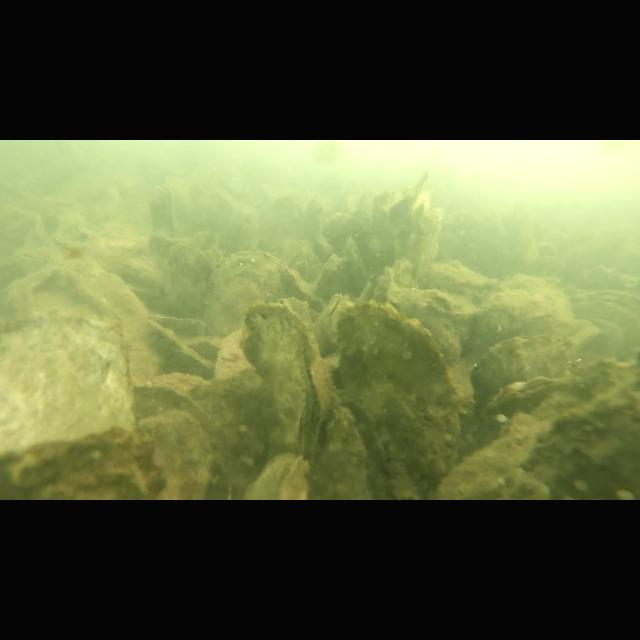Oyster-Closed: (436, 358, 640, 500), (0, 266, 136, 459), (334, 300, 458, 500), (238, 300, 328, 464), (1, 428, 168, 499), (137, 380, 230, 500), (468, 332, 572, 403), (212, 251, 282, 341), (161, 232, 221, 318), (149, 320, 215, 374), (429, 256, 495, 302), (249, 454, 311, 500), (408, 289, 480, 325), (279, 261, 323, 309), (338, 238, 368, 292), (314, 254, 344, 298), (292, 243, 314, 279), (359, 272, 376, 300)
Oyster-Open: (308, 404, 376, 500), (484, 374, 560, 420), (572, 290, 640, 338), (372, 256, 412, 308), (312, 294, 346, 348), (148, 185, 178, 237), (123, 252, 161, 288)
